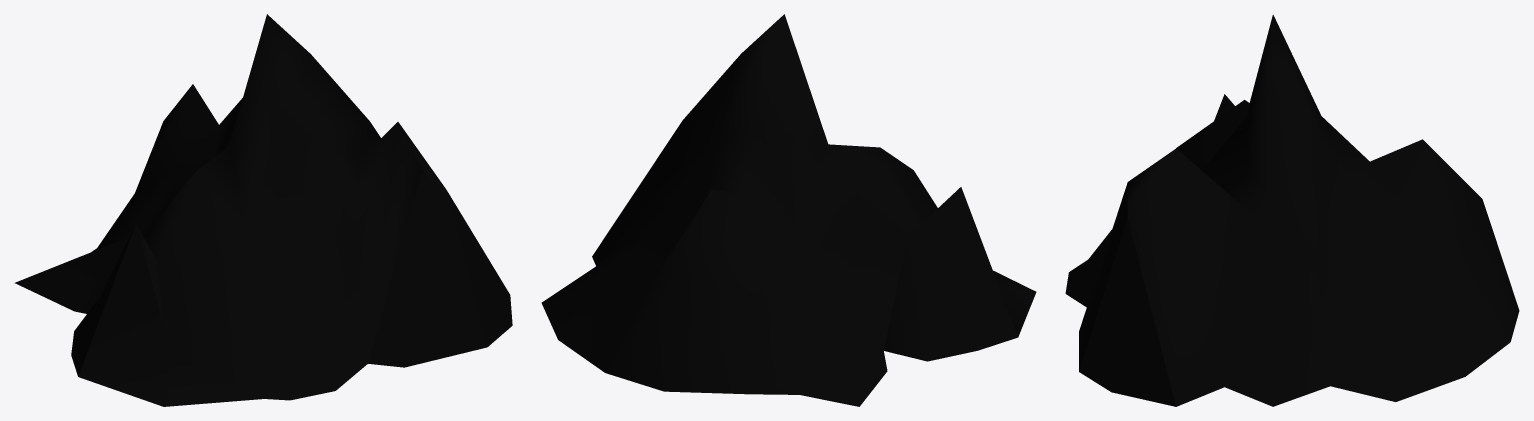
Rendered from Rock04.fbx.
3 views of the same model, side by side, from view 1: azimuth 30°, elevation 25°; view 2: azimuth 150°, elevation 25°; view 3: azimuth 270°, elevation 25° (orthographic). The views are drawn at different scales.
Parts seen in each view (by area): view 1: Rock04; view 2: Rock04; view 3: Rock04.
Boxes of the visible parts, x1=… form: Rock04: x1=15, y1=14, x2=512, y2=406; Rock04: x1=541, y1=14, x2=1036, y2=406; Rock04: x1=1065, y1=14, x2=1519, y2=406.
Bounding box in the file's own units: 115 × 78.83 × 109.
